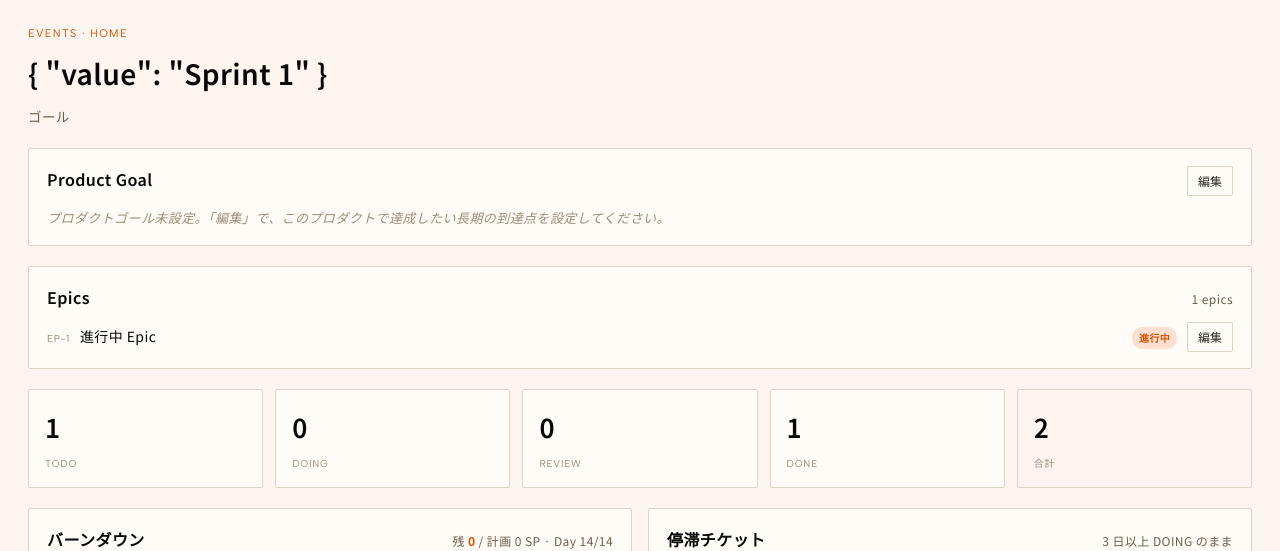
it: EventsHomeScreen Epics 編集 (Home Epic インライン編集) › 未完了の子チケットがある Epic は完了/中止の選択肢が無効化され理由が出る (2026-07-09)
The width and height of the screenshot is (1280, 551).
Click the button with test id "epic-edit-EP-1": [1210, 337] box [1187,322,1233,352]
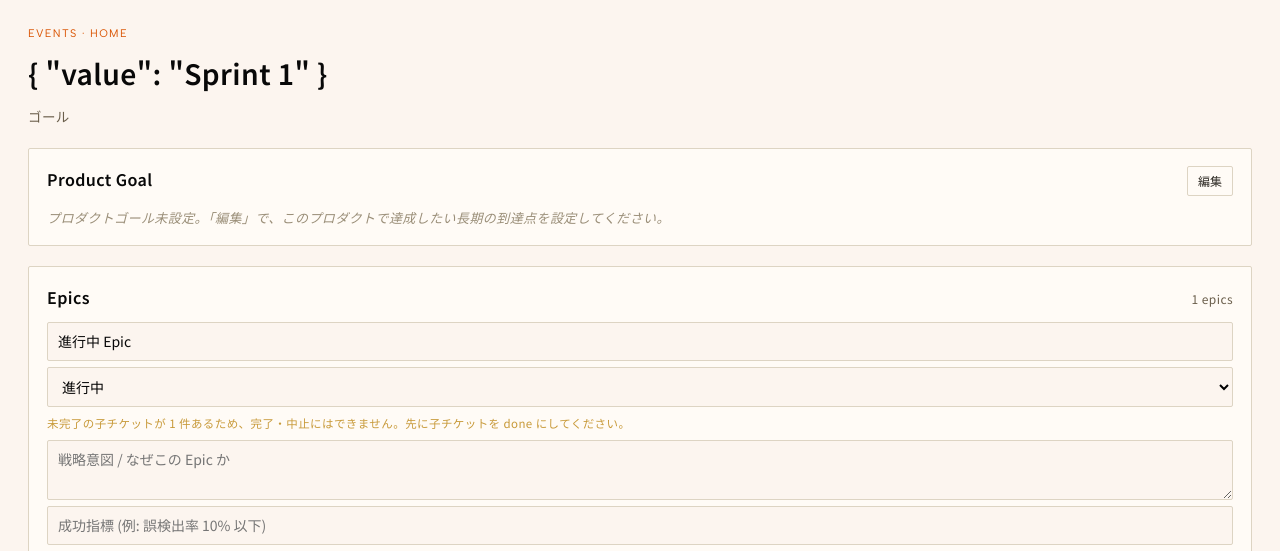
Now the text with test id "epic-guard-EP-1" shows "1 件", box [47,415,630,431]
